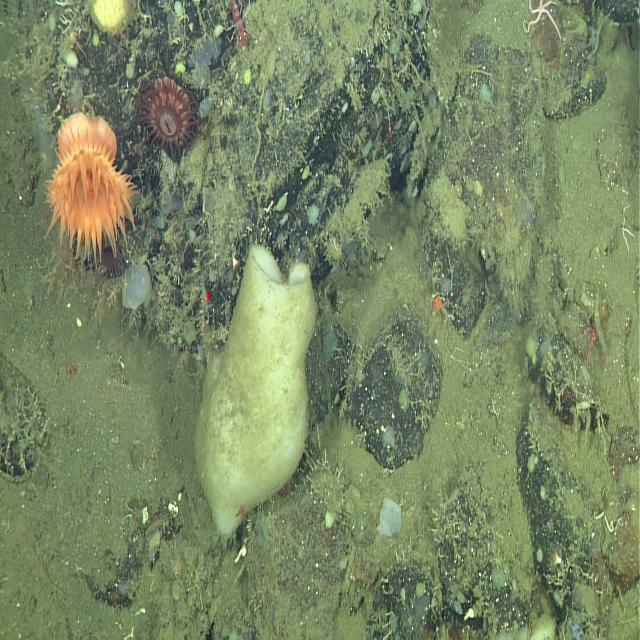Brittle Star: (522, 0, 563, 44)
